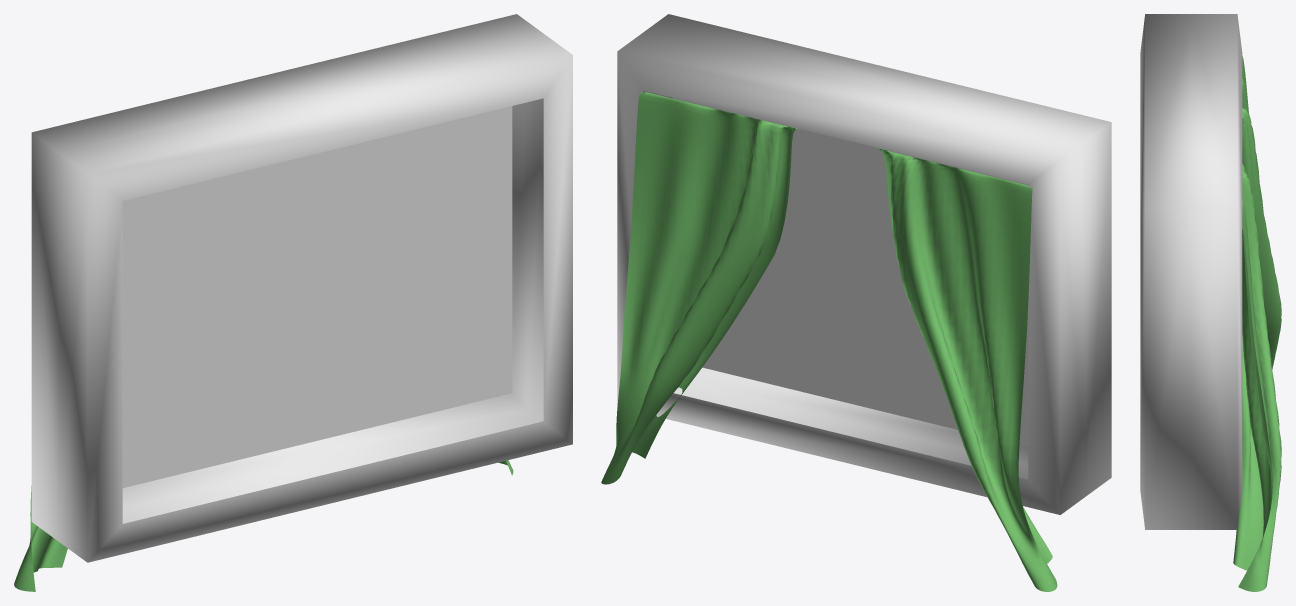
File: Window.fbx
3 renders of one model, left to right at view 1: azimuth 30°, elevation 25°; view 2: azimuth 150°, elevation 25°; view 3: azimuth 270°, elevation 25°, orthographic. The views are drawn at different scales.
Parts seen in each view (by area): view 1: Window, Curtains; view 2: Window, Curtains; view 3: Window, Curtains.
Boxes of the visible parts, x1=… form: Window: x1=31, y1=14, x2=572, y2=562; Curtains: x1=14, y1=460, x2=513, y2=591; Window: x1=617, y1=14, x2=1111, y2=514; Curtains: x1=601, y1=92, x2=1057, y2=591; Window: x1=1140, y1=14, x2=1242, y2=529; Curtains: x1=1233, y1=56, x2=1281, y2=591.
Size of the model in its own units: 459 by 410 by 138.
